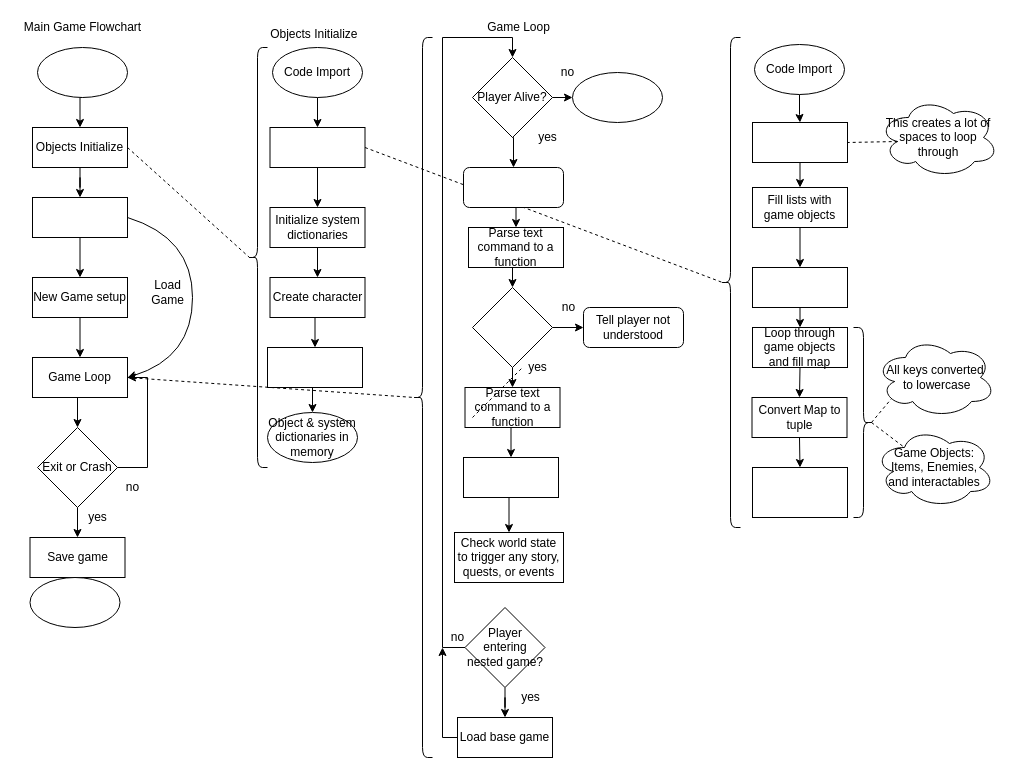
This 1016x775 diagram has some shape labels left out. Each missing label, with the box of its shape:
Create 4D list of Nones based on map ranges: (752, 122, 848, 162)
End function: (572, 72, 662, 122)
Fill Maps with map object and index: (752, 266, 848, 308)
Initialize object dictionaries: (269, 126, 365, 168)
Is command understood?: (472, 286, 552, 368)
Make object dictionaries with key=name value=object: (752, 466, 848, 518)
Perform game command and update the world: (462, 456, 558, 498)
Program end: (29, 576, 120, 628)
Program start: (36, 46, 128, 98)
Setup save path: (266, 346, 362, 388)
Start Screen: (32, 196, 128, 238)
Wait for text command: (462, 166, 564, 208)
